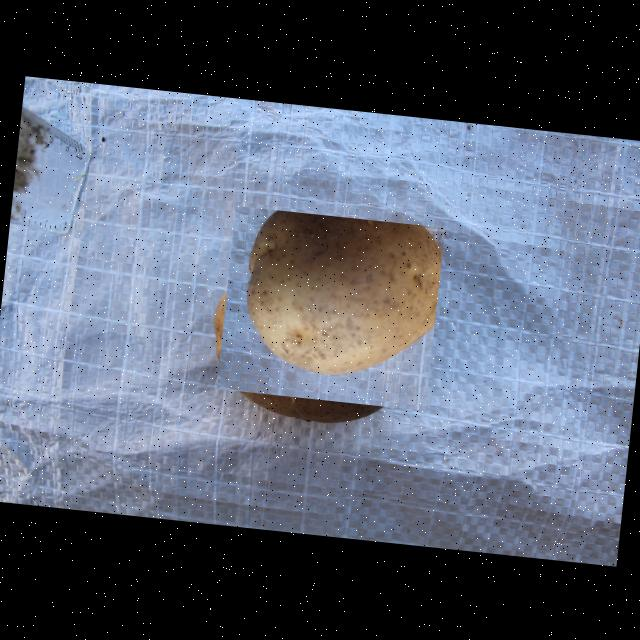Diseased-fungal potato: (216, 204, 444, 410)
